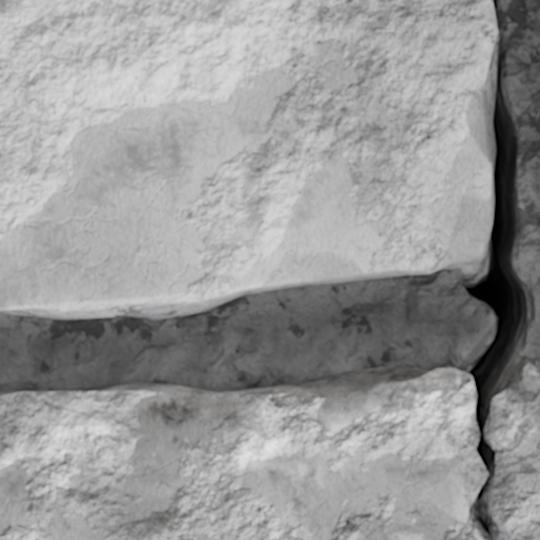brick: (0, 0, 497, 319)
broken_brick: (0, 363, 486, 539), (485, 355, 539, 539)
crack: (456, 0, 537, 539)
